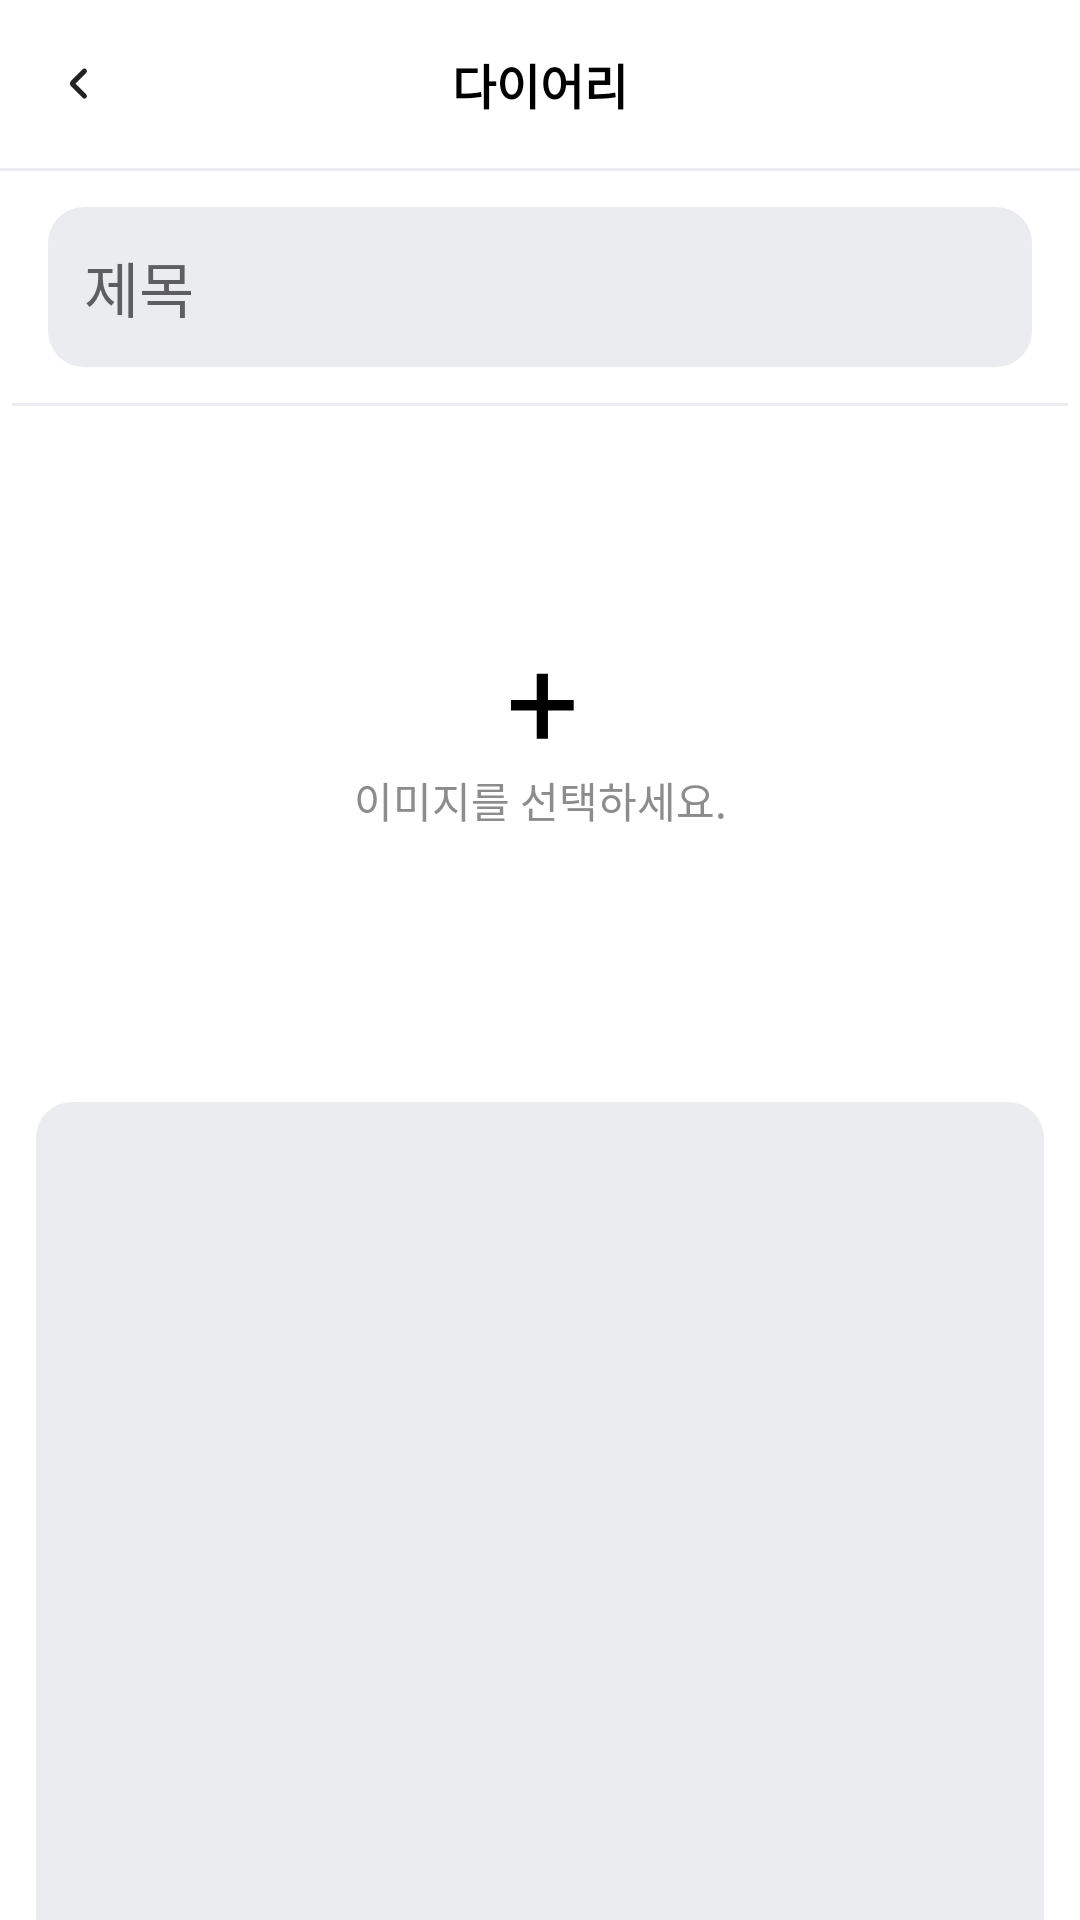

Screen size 1080px x 1920px. Icon name, then its box in pixels as (x1, y1, x2, y2):
arrow back: (70, 68, 87, 99)
plus: (511, 673, 574, 739)
